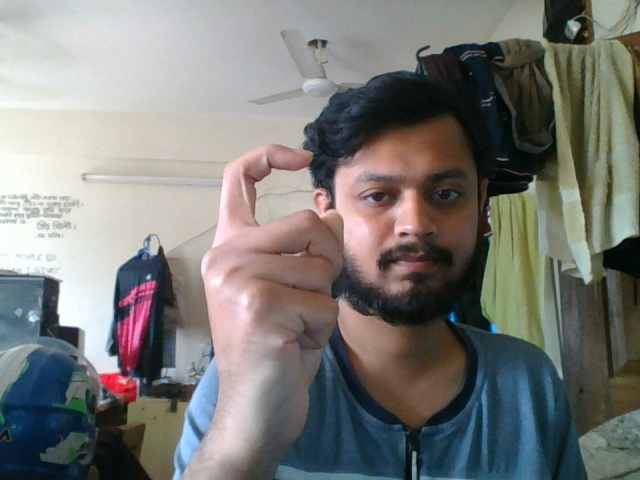e: (194, 136, 354, 464)
